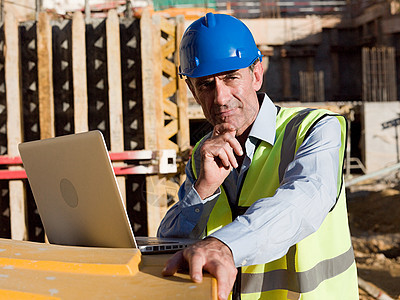safetyhat: (147, 6, 368, 296)
